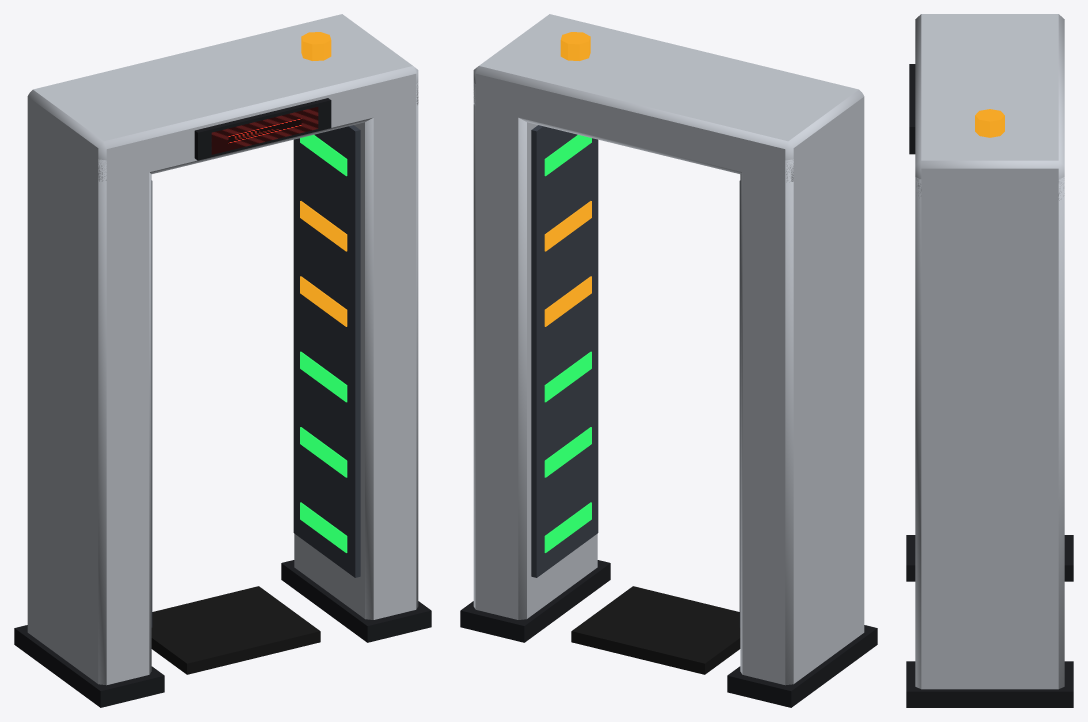
File: camera_metal_detector_arch.glb
3 views of the same model, side by side, from view 1: azimuth 30°, elevation 25°; view 2: azimuth 150°, elevation 25°; view 3: azimuth 270°, elevation 25° (orthographic). The views are drawn at different scales.
Parts seen in each view (by area): view 1: camera_metal_detector_arch; view 2: camera_metal_detector_arch; view 3: camera_metal_detector_arch.
Part boxes in pixels (x1,y1,x2,y2): camera_metal_detector_arch: [14, 14, 431, 707]; camera_metal_detector_arch: [460, 14, 877, 707]; camera_metal_detector_arch: [906, 14, 1073, 707].
Size of the model in its own units: 1.24 by 2.06 by 0.56.
Materials: 7 (1 with a texture image).
